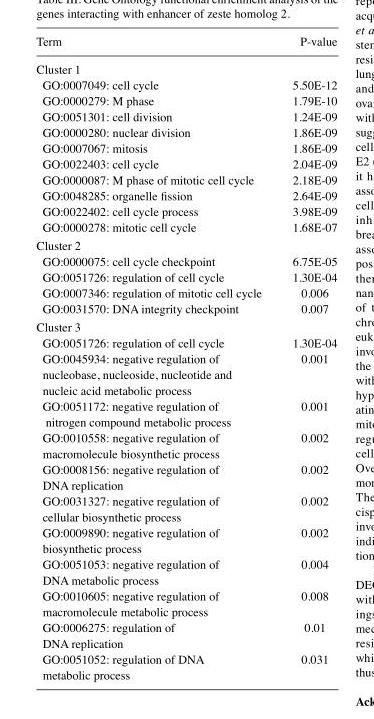table: (35, 35, 336, 681)
table column: (35, 35, 276, 681), (276, 35, 336, 681)
table column header: (35, 35, 336, 55)
table projected row header: (35, 55, 336, 77), (35, 236, 336, 253), (35, 318, 336, 335)
table row: (35, 351, 336, 398), (35, 398, 336, 430), (35, 461, 336, 493), (35, 493, 336, 525), (35, 556, 336, 588), (35, 588, 336, 620), (35, 430, 336, 461), (35, 525, 336, 556), (35, 620, 336, 651), (35, 651, 336, 681), (35, 55, 336, 77), (35, 35, 336, 55), (35, 219, 336, 236), (35, 236, 336, 253), (35, 301, 336, 318), (35, 318, 336, 335), (35, 77, 336, 93), (35, 93, 336, 109), (35, 109, 336, 125), (35, 140, 336, 156), (35, 156, 336, 172), (35, 172, 336, 188), (35, 188, 336, 204), (35, 253, 336, 269), (35, 269, 336, 285), (35, 285, 336, 301), (35, 335, 336, 351), (35, 125, 336, 140), (35, 204, 336, 219)
